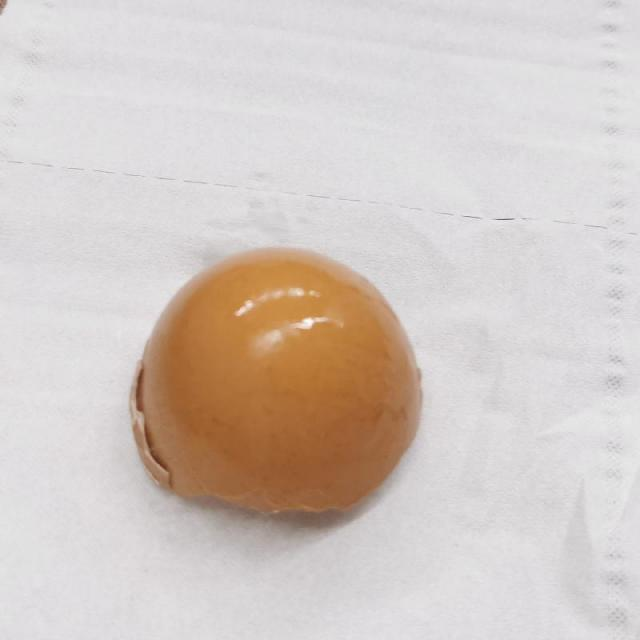egg shell: (130, 245, 426, 517)
